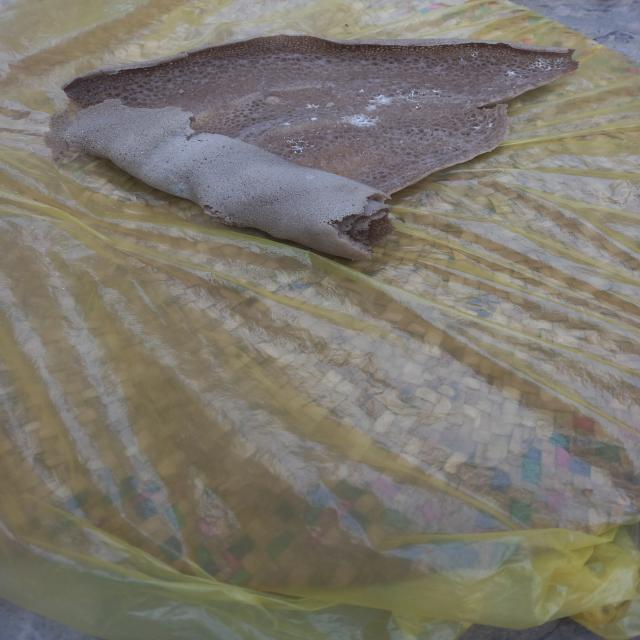injera_mold: (339, 113, 377, 128), (283, 137, 307, 156), (369, 92, 393, 107), (303, 101, 322, 113), (532, 56, 547, 71), (174, 185, 188, 196), (397, 88, 406, 101), (307, 114, 321, 122), (281, 120, 295, 128), (407, 90, 416, 102), (302, 173, 319, 179), (470, 50, 479, 61), (506, 71, 517, 77), (553, 57, 562, 64), (432, 88, 442, 94), (473, 124, 481, 131), (177, 88, 186, 94), (485, 86, 494, 91), (327, 83, 336, 88), (358, 88, 365, 94), (553, 66, 563, 70), (420, 90, 426, 96), (398, 139, 404, 145), (415, 103, 420, 110), (310, 128, 318, 132), (65, 133, 71, 137), (512, 85, 518, 89), (473, 62, 477, 68), (294, 64, 300, 68), (252, 125, 255, 132), (140, 150, 145, 154), (96, 145, 101, 149), (89, 136, 93, 141), (468, 99, 472, 104), (470, 116, 475, 120), (426, 90, 431, 94), (324, 130, 330, 133), (319, 163, 325, 166), (143, 130, 147, 134), (67, 138, 71, 142), (488, 123, 492, 127), (275, 148, 279, 152), (83, 149, 88, 152), (310, 144, 315, 147), (358, 96, 363, 99), (406, 172, 411, 175), (161, 128, 164, 132), (80, 130, 84, 133), (80, 144, 86, 146), (459, 59, 463, 62), (464, 61, 467, 65), (548, 65, 550, 71), (266, 132, 270, 135), (190, 88, 194, 91), (416, 84, 420, 87), (85, 138, 88, 141), (426, 84, 430, 86), (100, 140, 104, 142), (276, 132, 278, 136), (190, 93, 194, 95), (288, 105, 290, 109), (124, 145, 126, 148), (334, 74, 336, 76)
